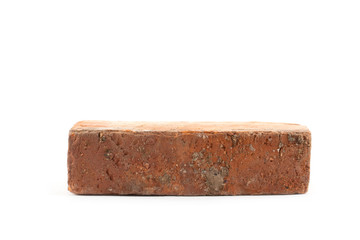brick: (69, 128, 309, 195)
